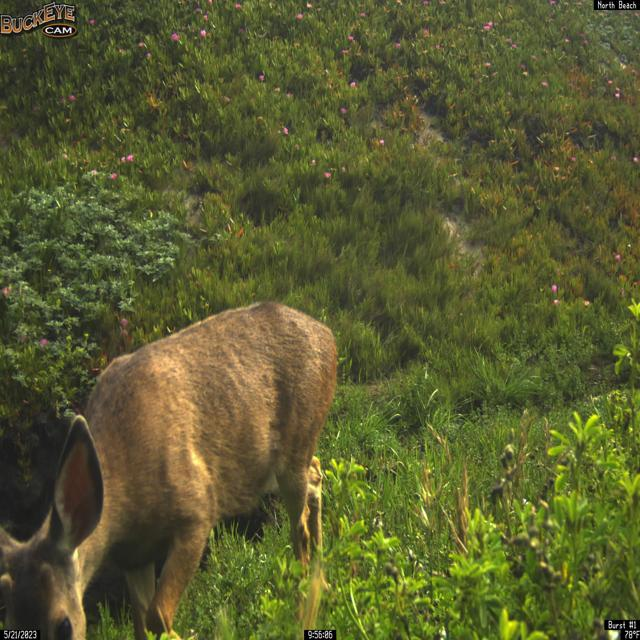deer: (0, 300, 339, 640)
